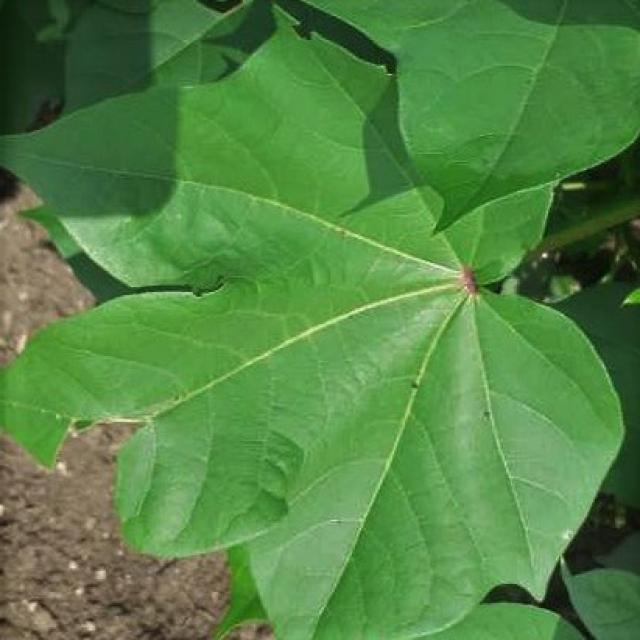Healthy Leaf: (147, 80, 640, 520)
